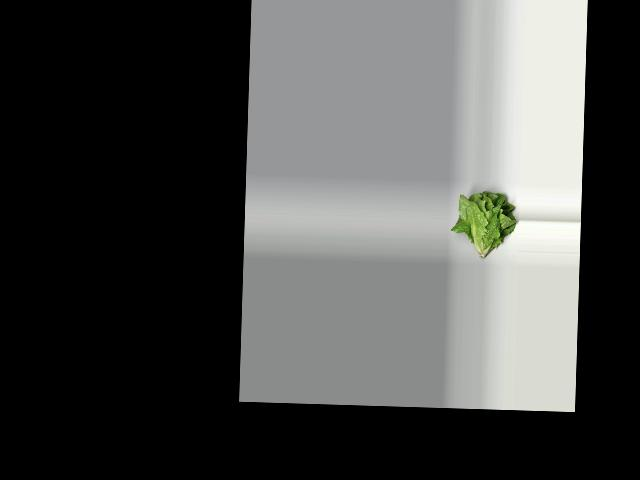lettuce: (451, 187, 521, 264)
